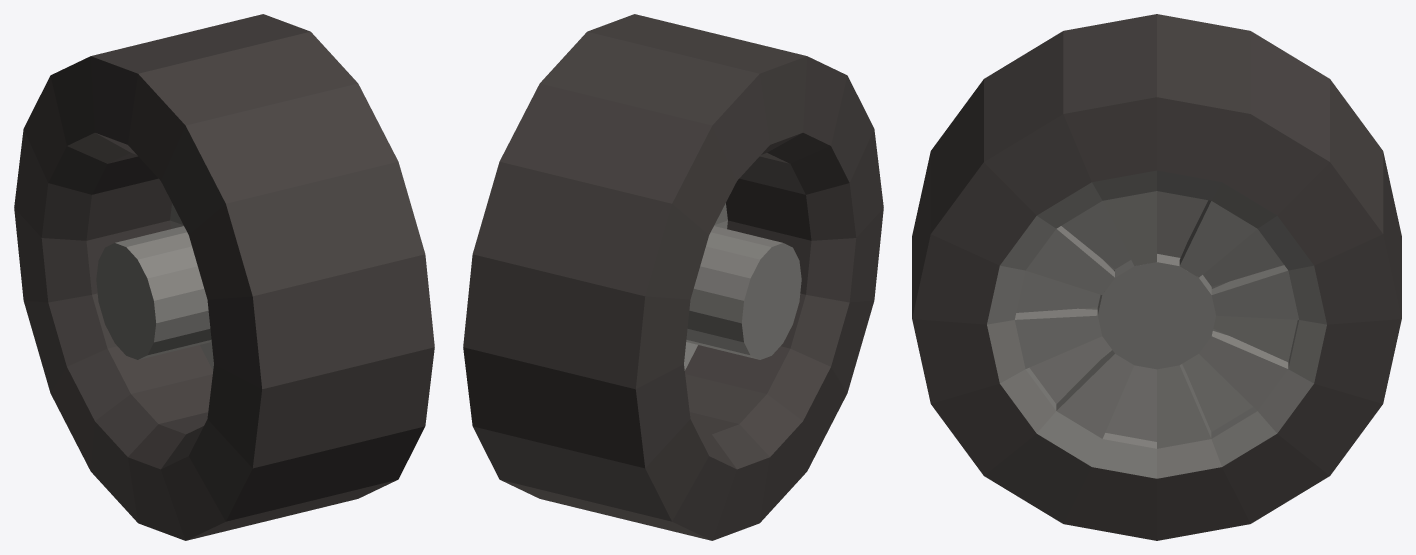
The model's file is Wheel.gltf.
3 renders of one model, left to right at view 1: azimuth 30°, elevation 25°; view 2: azimuth 150°, elevation 25°; view 3: azimuth 270°, elevation 25°, orthographic.
Parts seen in each view (by area): view 1: lowpoly:Wheel; view 2: lowpoly:Wheel; view 3: lowpoly:Wheel.
Boxes of the visible parts, x1,y1,x2,y2 form: lowpoly:Wheel: [14, 14, 434, 540]; lowpoly:Wheel: [463, 14, 883, 540]; lowpoly:Wheel: [912, 14, 1401, 540].
Size of the model in its own units: 0.00733 by 0.0161 by 0.0161.
Materials: 1 (1 with a texture image).
